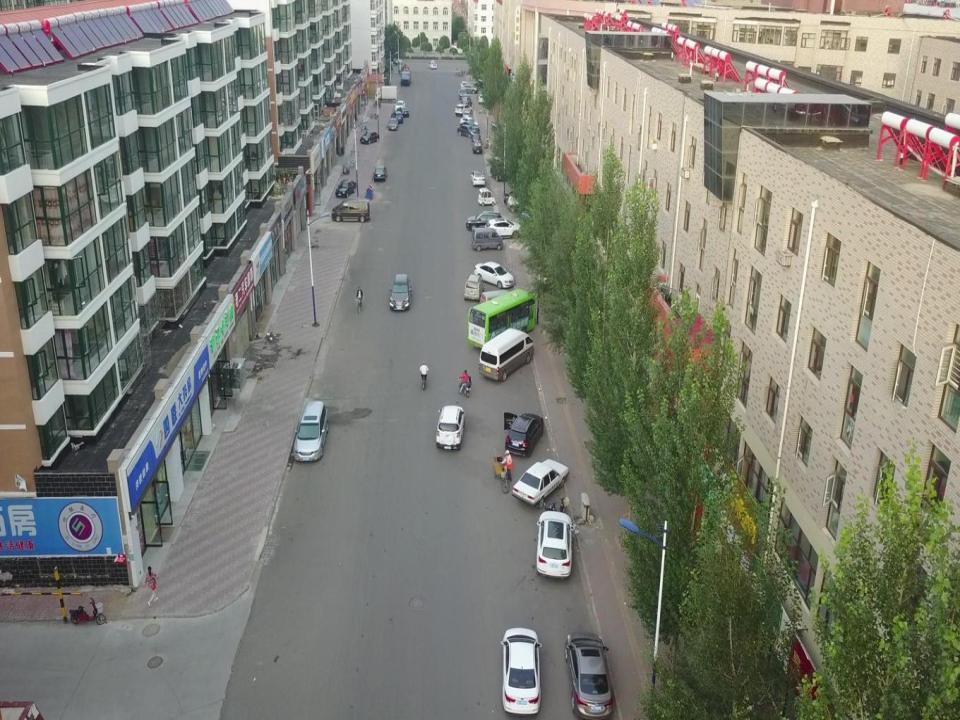bus: (468, 289, 535, 350)
car: (565, 631, 614, 718), (500, 627, 543, 716), (536, 510, 576, 581), (512, 458, 568, 504), (502, 410, 543, 456), (435, 405, 466, 451), (475, 261, 515, 288), (389, 274, 412, 310), (485, 218, 522, 239), (466, 212, 502, 231), (464, 273, 484, 301), (336, 178, 356, 198), (504, 189, 525, 205), (508, 195, 526, 212), (471, 170, 486, 187), (374, 164, 388, 182), (360, 131, 379, 144), (460, 117, 479, 130), (457, 126, 477, 138), (455, 104, 472, 116), (396, 106, 409, 118), (471, 140, 483, 152), (388, 118, 400, 130), (390, 111, 403, 122), (463, 83, 477, 93), (385, 57, 399, 66), (394, 100, 406, 109), (458, 88, 467, 100), (478, 93, 487, 104), (428, 59, 437, 70), (472, 133, 480, 144), (463, 110, 471, 120), (463, 93, 471, 103), (460, 81, 468, 91), (462, 97, 473, 104)
truck: (375, 85, 397, 103), (401, 68, 411, 86)
van: (478, 328, 535, 382), (293, 400, 329, 461), (331, 199, 370, 223), (480, 289, 513, 315), (472, 228, 504, 250)
